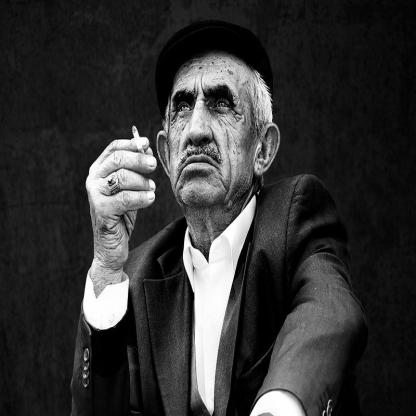smoking: (132, 126, 147, 164)
